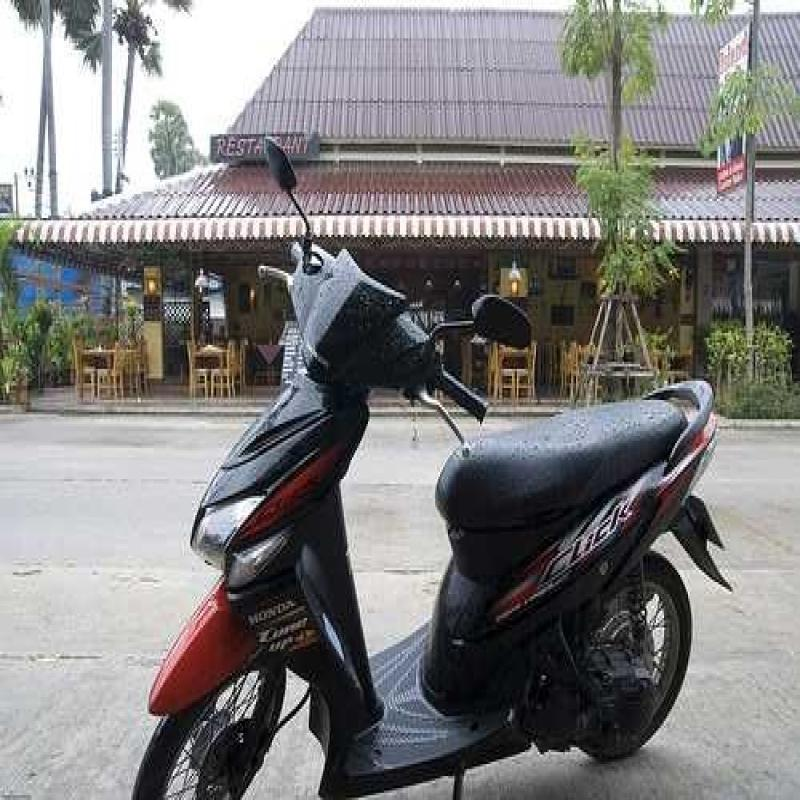bike: (153, 108, 726, 800)
